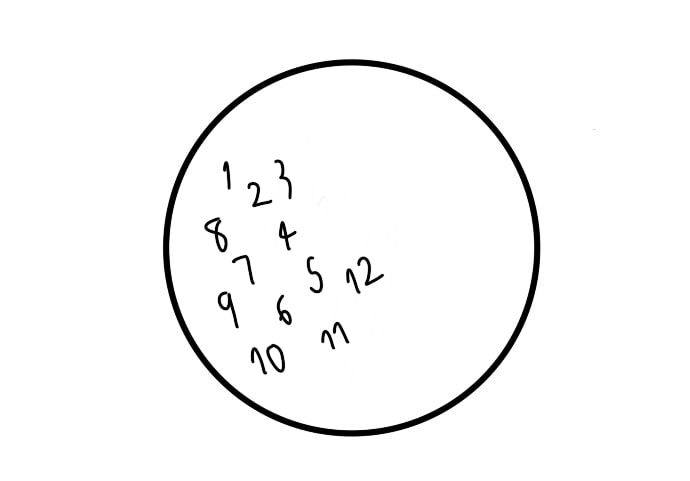eight: (202, 218, 229, 251)
eleven: (319, 320, 352, 350)
five: (305, 252, 324, 296)
four: (274, 213, 298, 253)
nine: (218, 286, 241, 330)
one: (220, 159, 233, 191)
seven: (231, 254, 258, 286)
six: (276, 293, 293, 328)
ten: (248, 339, 289, 380)
three: (273, 156, 295, 203)
twelve: (341, 252, 385, 298)
two: (246, 177, 274, 211)
